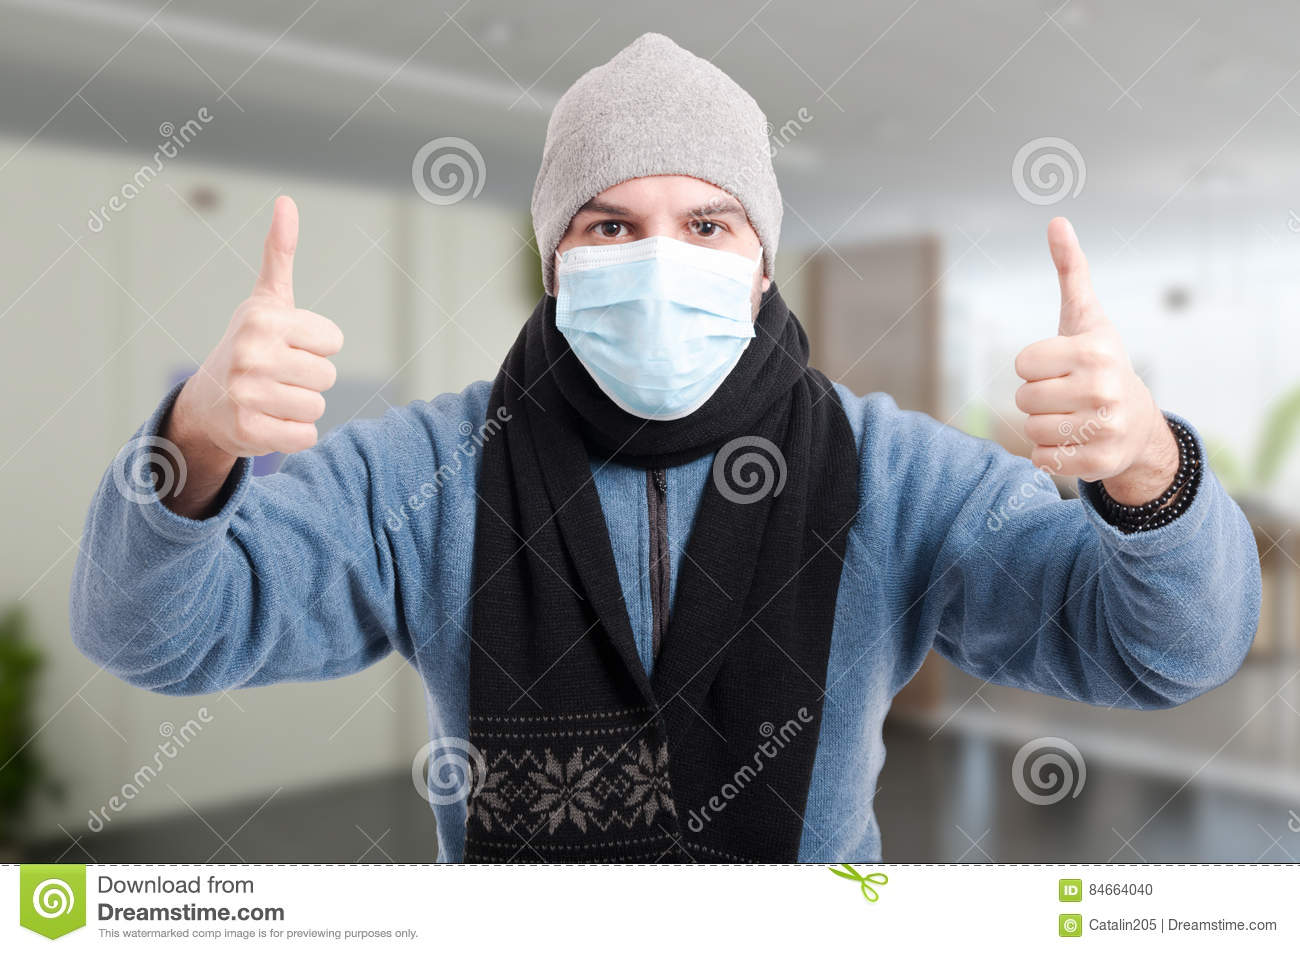mask: (555, 242, 759, 418)
